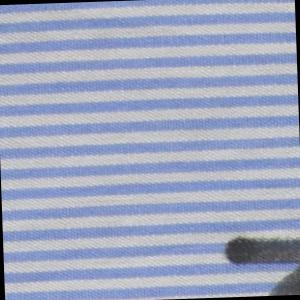Stain: (222, 230, 300, 298)
